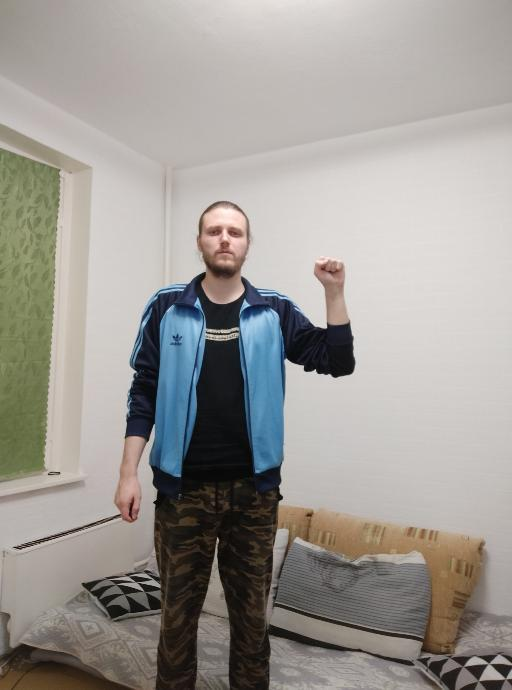fist: (311, 254, 346, 288)
no_gesture: (112, 475, 143, 524)
